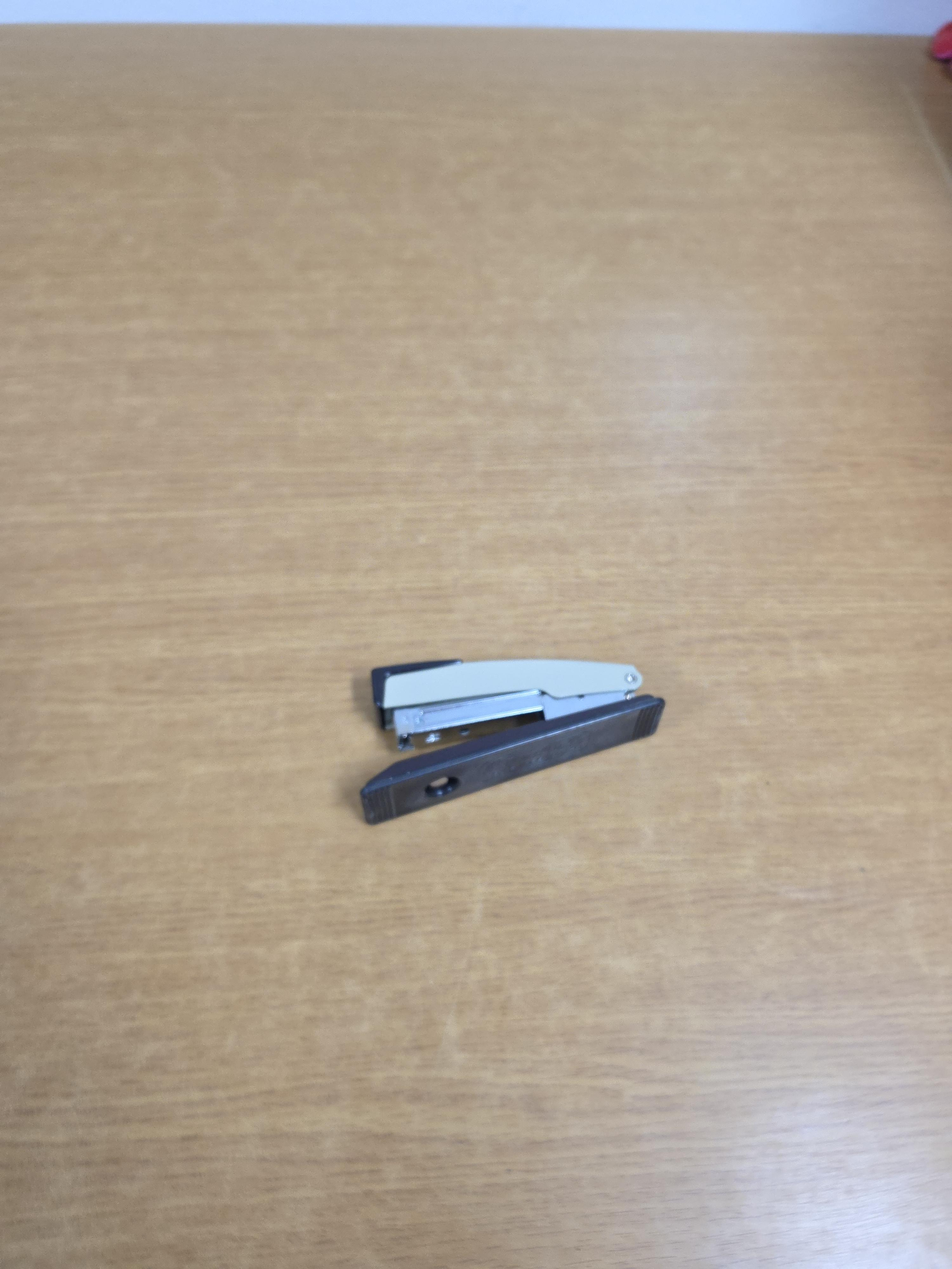stapler: (360, 658, 666, 824)
